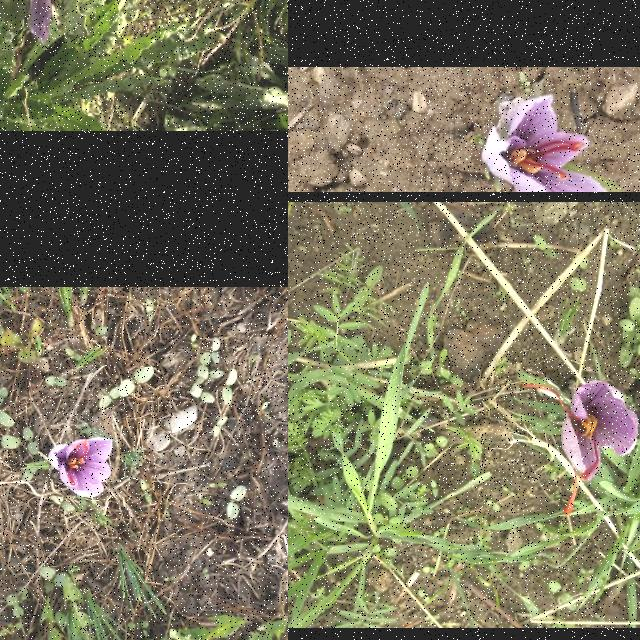flower: (523, 380, 639, 514), (482, 95, 617, 192), (49, 437, 113, 499), (20, 0, 100, 44)
